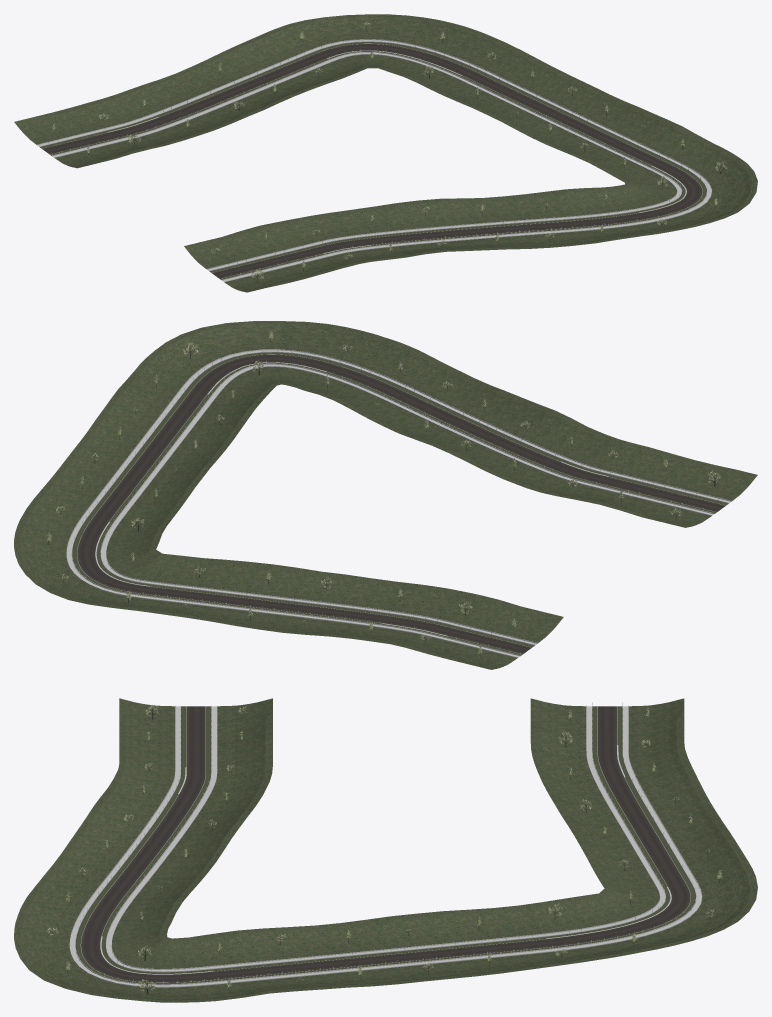
The picture shows the model from 3 angles, top to bottom: view 1: azimuth 30°, elevation 25°; view 2: azimuth 150°, elevation 25°; view 3: azimuth 270°, elevation 25°; orthographic projection. The views are drawn at different scales.
Parts seen in each view (by area): view 1: Grass, Road, Track, Trees; view 2: Grass, Road, Track, Trees; view 3: Grass, Road, Track, Trees.
Boxes of the visible parts, x1,y1,x2,y2 form: Grass: (14,14,757,292); Road: (42,44,702,278); Track: (37,39,711,282); Trees: (52,22,727,282); Grass: (14,321,757,669); Road: (77,354,725,653); Track: (66,349,731,657); Trees: (46,331,720,656); Grass: (14,698,757,1002); Road: (81,706,690,982); Track: (69,702,702,987); Trees: (47,704,722,994).
Size of the model in its own units: 65017 by 2155 by 67839.
